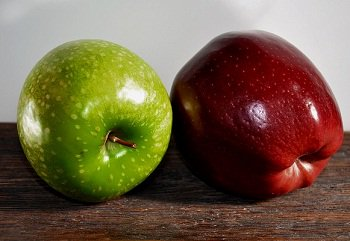apple: (167, 29, 346, 201)
